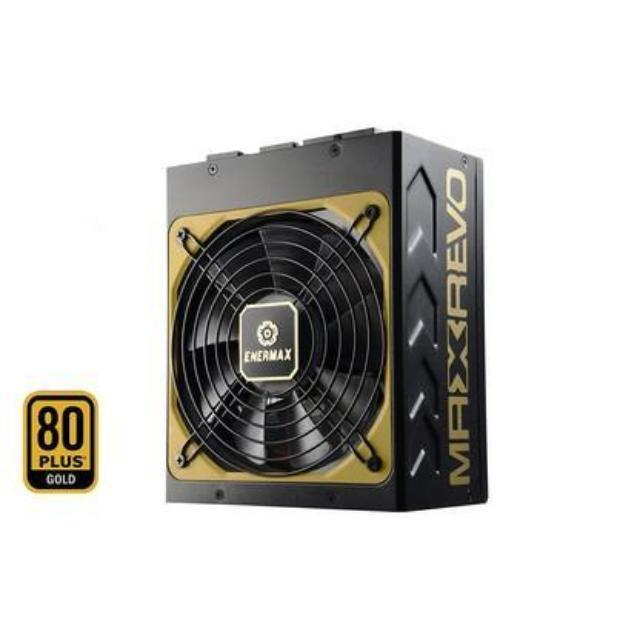PSU: (146, 119, 502, 524)
